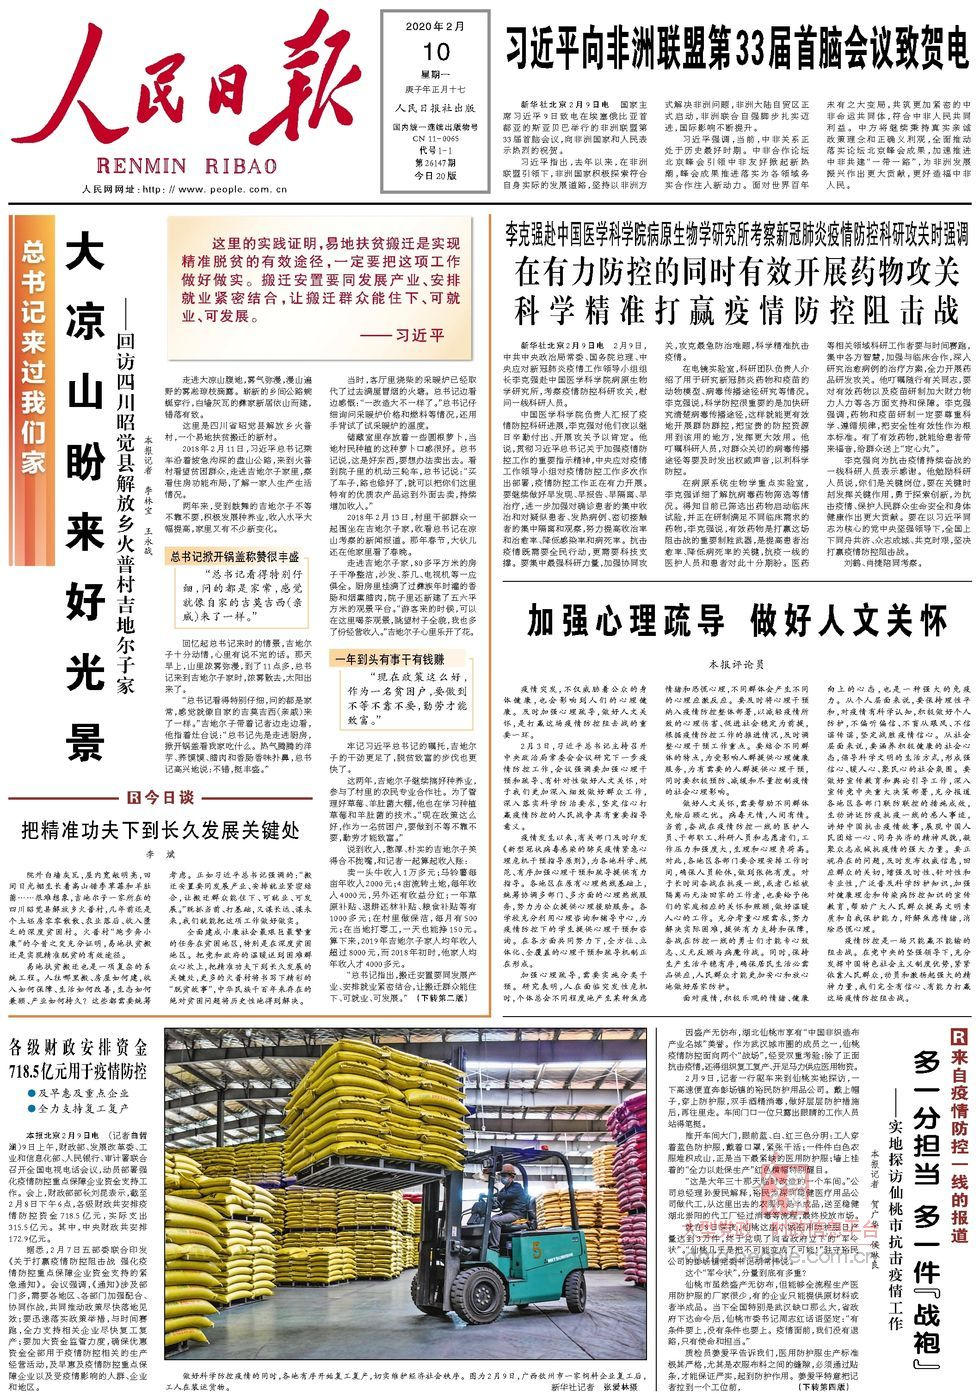pic: (159, 1023, 652, 1366)
